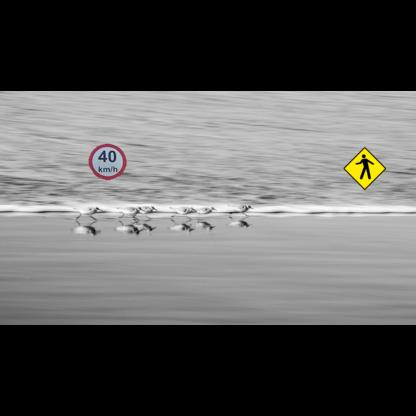A-32a: (343, 147, 386, 190)
R-19: (88, 144, 126, 180)
